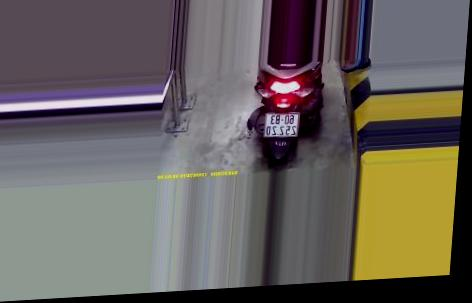License_Plate: (262, 109, 305, 140)
